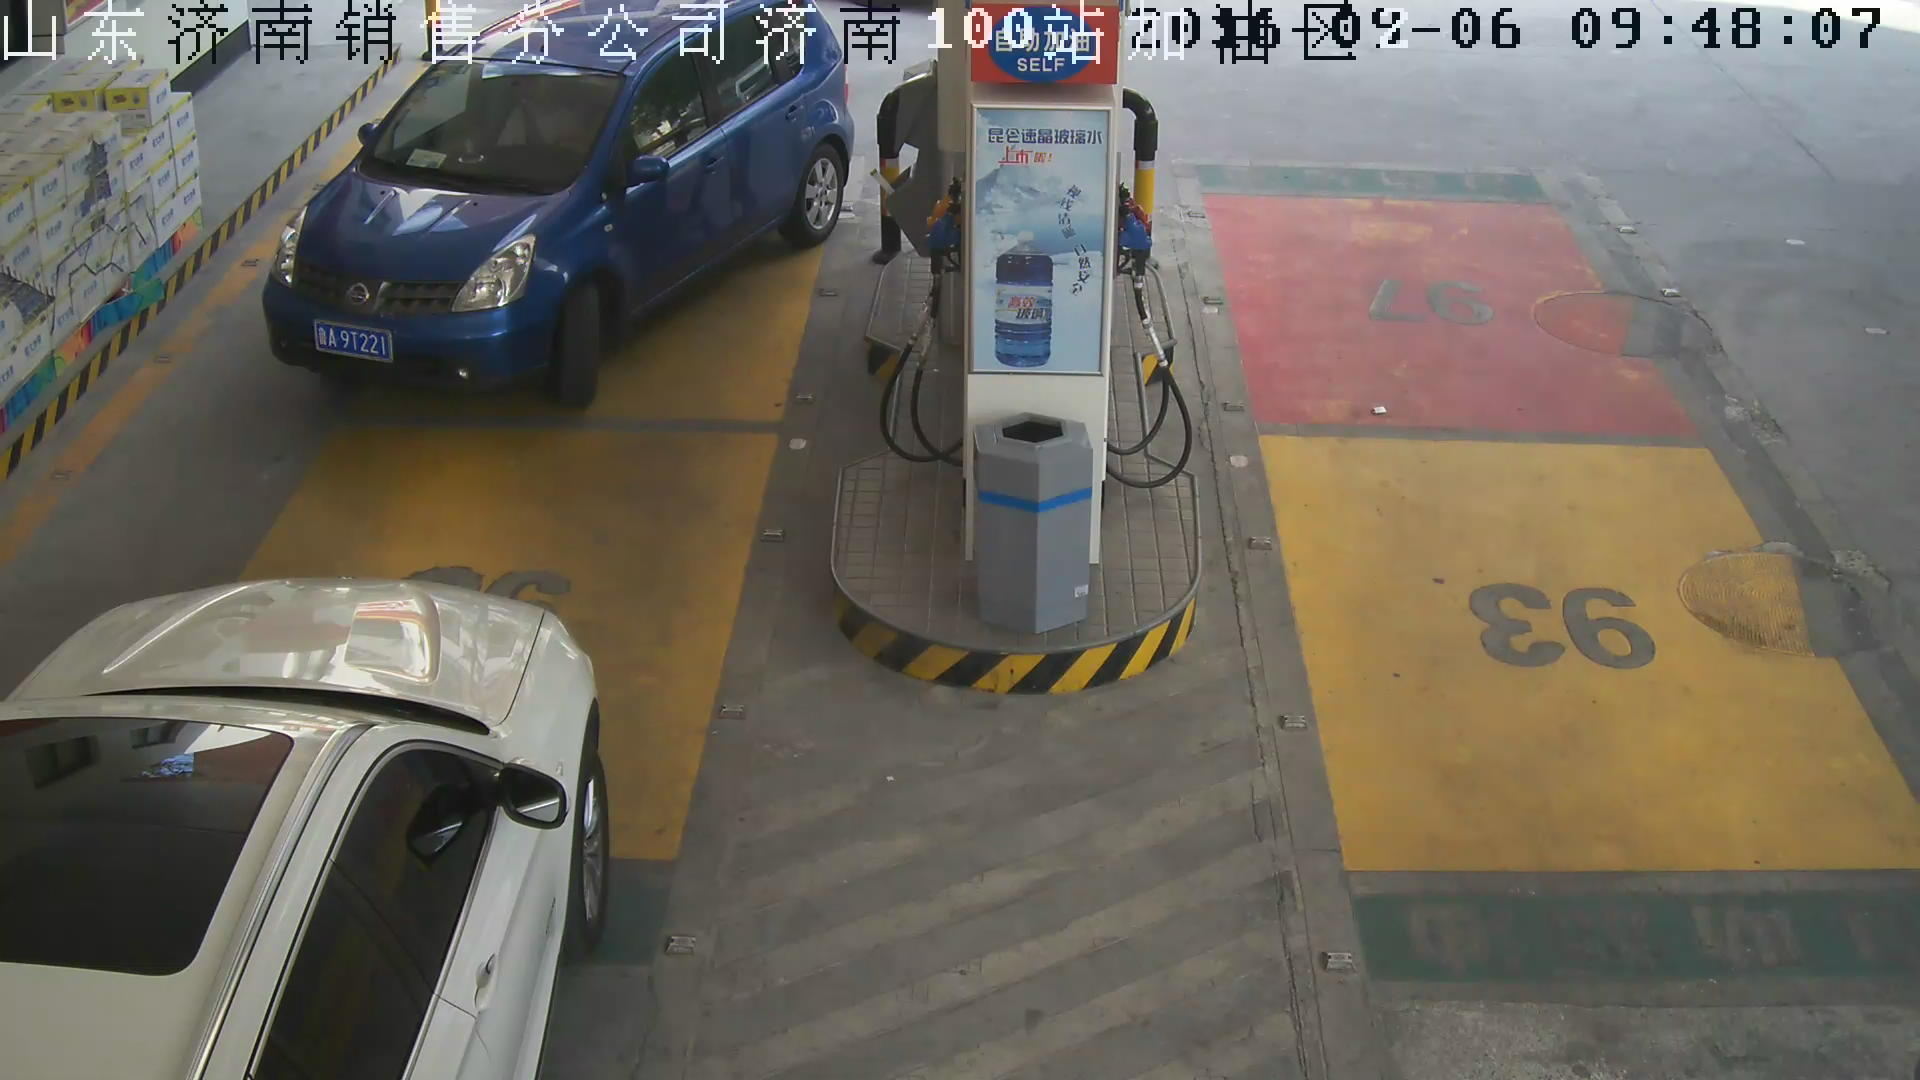blue: (311, 318, 398, 367)
